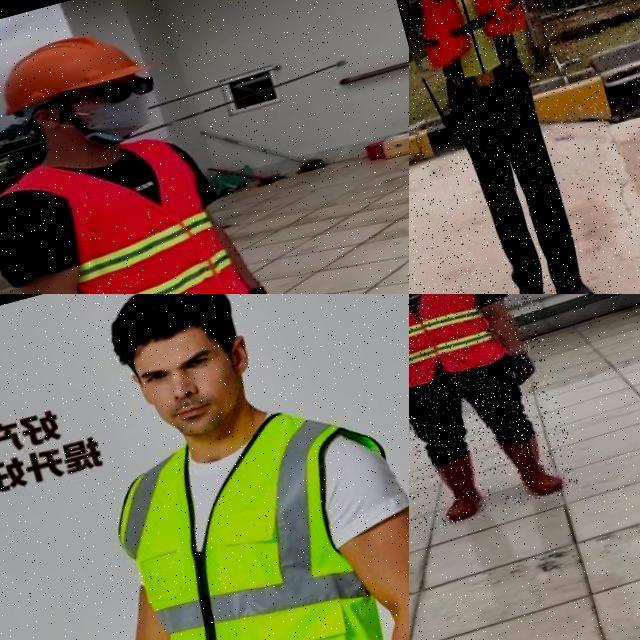boots: (498, 428, 568, 503), (426, 448, 490, 525), (553, 270, 604, 294), (502, 276, 558, 294)
helmet: (0, 14, 160, 122)
vest: (88, 392, 409, 640), (0, 121, 253, 294), (409, 0, 537, 91), (409, 294, 507, 396)
